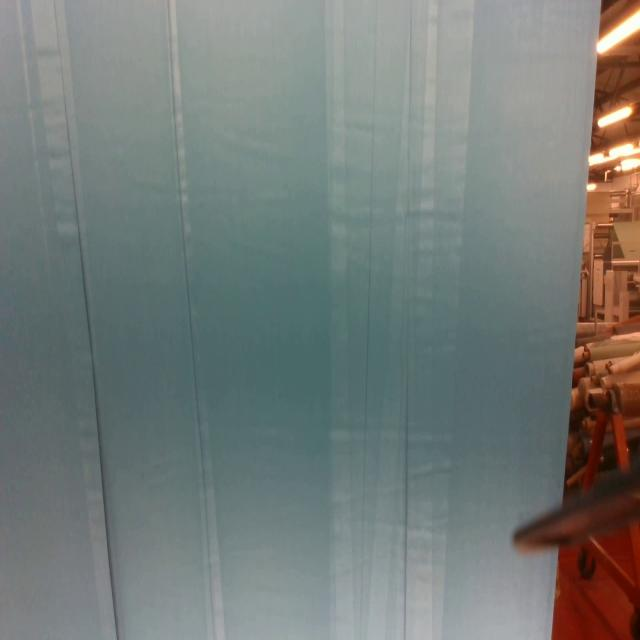crease: (53, 1, 120, 640), (165, 0, 220, 640), (356, 1, 380, 640), (401, 0, 414, 640), (419, 0, 442, 266)
